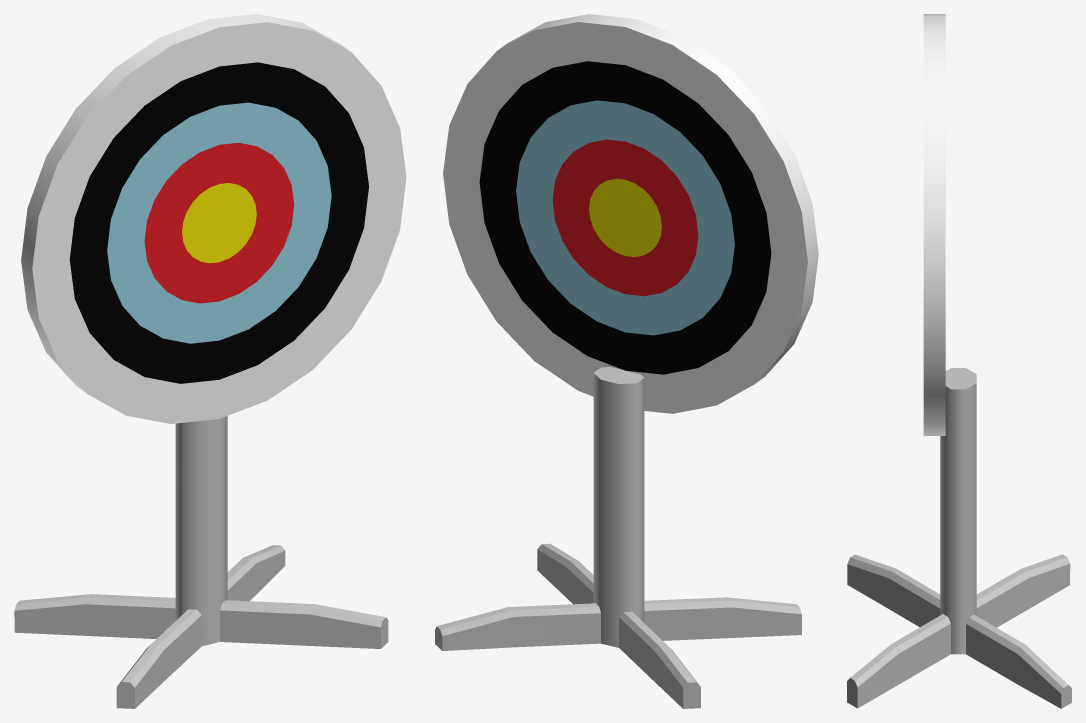
File: Target.FBX
3 renders of one model, left to right at view 1: azimuth 30°, elevation 25°; view 2: azimuth 150°, elevation 25°; view 3: azimuth 270°, elevation 25°, orthographic. The views are drawn at different scales.
Visible parts, largest first — view 1: Ring10, Ring20, Foot, Ring30, Ring40, Ring50; view 2: Ring10, Foot, Ring20, Ring30, Ring40, Ring50; view 3: Foot, Ring10.
Boxes of the visible parts, x1=… form: Ring10: x1=21, y1=14, x2=406, y2=423; Ring20: x1=69, y1=62, x2=368, y2=383; Foot: x1=14, y1=416, x2=388, y2=708; Ring30: x1=107, y1=102, x2=331, y2=343; Ring40: x1=144, y1=142, x2=294, y2=303; Ring50: x1=182, y1=183, x2=256, y2=263; Ring10: x1=443, y1=14, x2=818, y2=413; Foot: x1=435, y1=367, x2=801, y2=708; Ring20: x1=479, y1=61, x2=771, y2=374; Ring30: x1=516, y1=100, x2=734, y2=335; Ring40: x1=552, y1=139, x2=698, y2=296; Ring50: x1=589, y1=178, x2=661, y2=256; Foot: x1=847, y1=368, x2=1071, y2=708; Ring10: x1=923, y1=14, x2=945, y2=435.
Bounding box in the file's own units: 1.19 × 1.89 × 0.6313.
